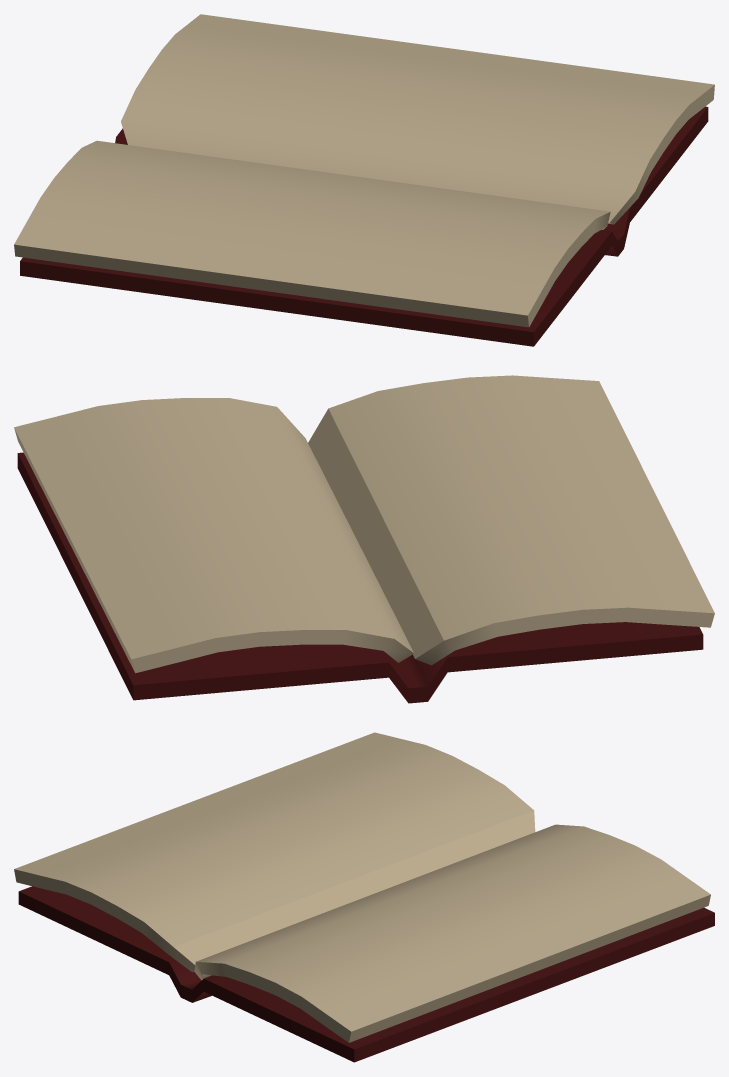
The model's file is open_book.fbx.
The picture shows the model from 3 angles, top to bottom: view 1: azimuth 30°, elevation 25°; view 2: azimuth 150°, elevation 25°; view 3: azimuth 270°, elevation 25°; orthographic projection. The views are drawn at different scales.
Parts seen in each view (by area): view 1: polySurface9; view 2: polySurface9; view 3: polySurface9.
Boxes of the visible parts, <box> form: polySurface9: <box>14,14,714,346</box>; polySurface9: <box>14,375,714,703</box>; polySurface9: <box>14,732,714,1062</box>.
Size of the model in its own units: 31.15 by 3.4 by 30.67.
